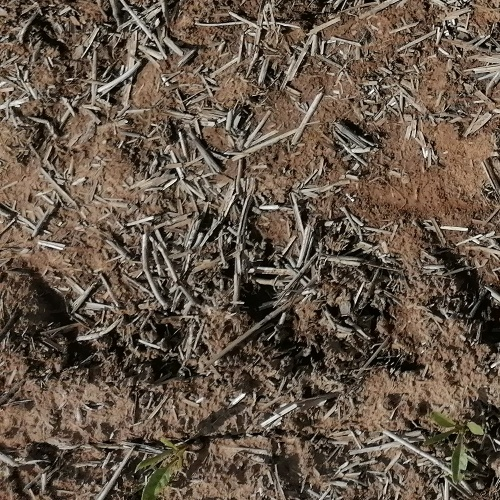beet: (429, 412, 484, 483), (132, 438, 192, 500)
